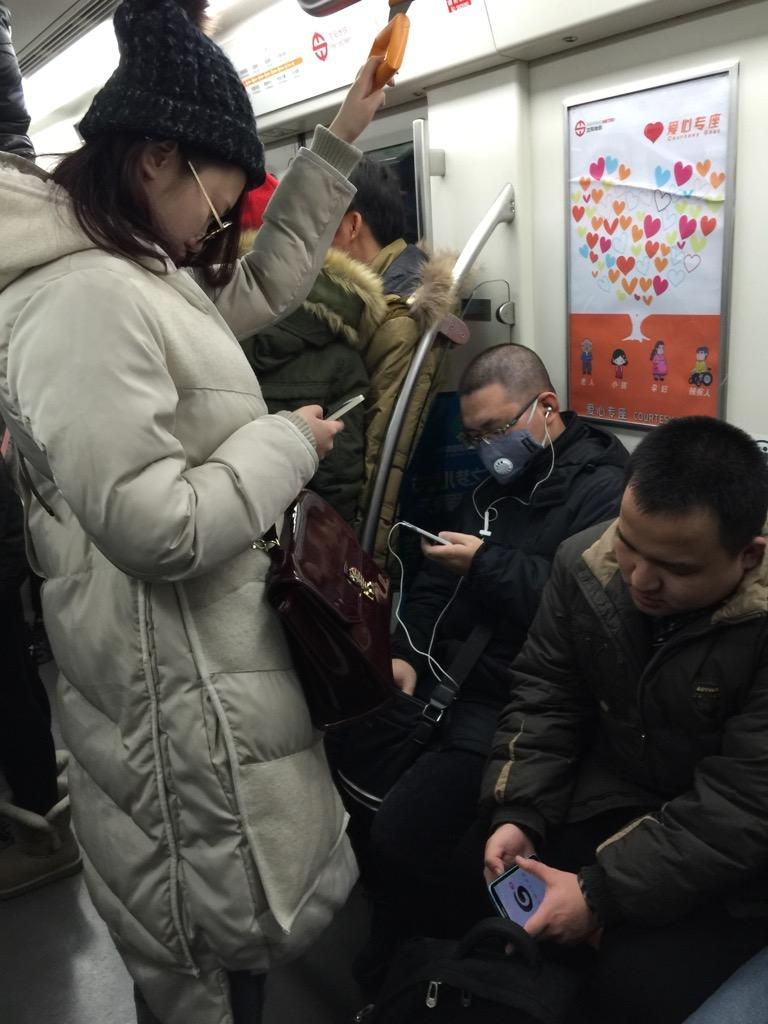Mobile-phone: (485, 852, 554, 932), (401, 516, 466, 558), (321, 390, 372, 430)
